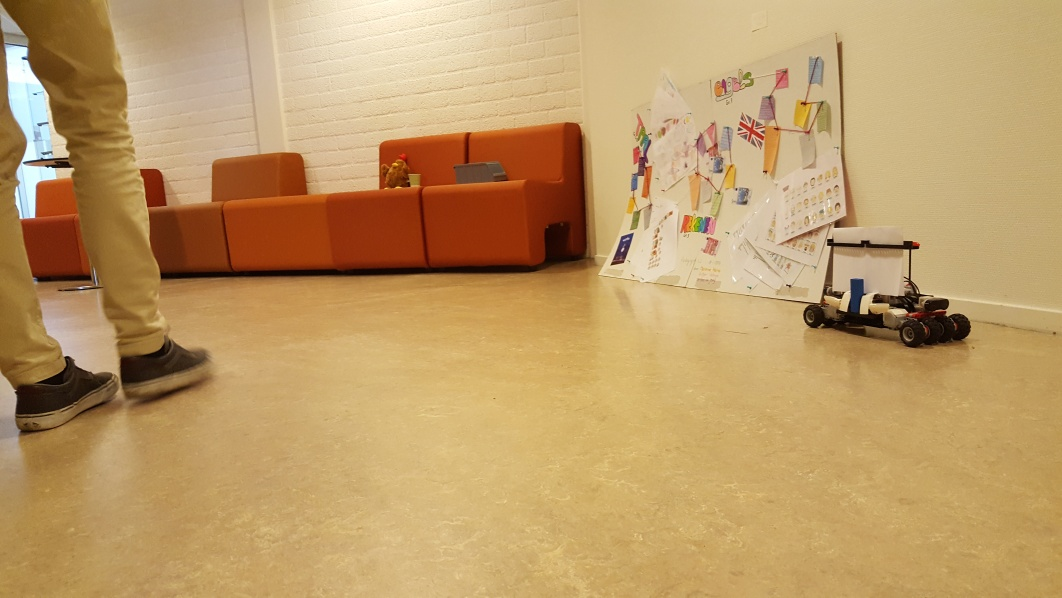beam: (847, 273, 865, 319)
chicken: (379, 153, 409, 190)
cup: (408, 171, 423, 189)
tray: (450, 161, 507, 182)
